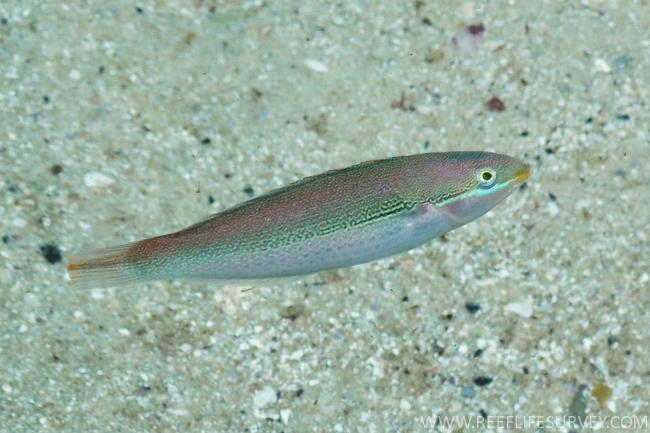fish: (67, 151, 534, 292)
